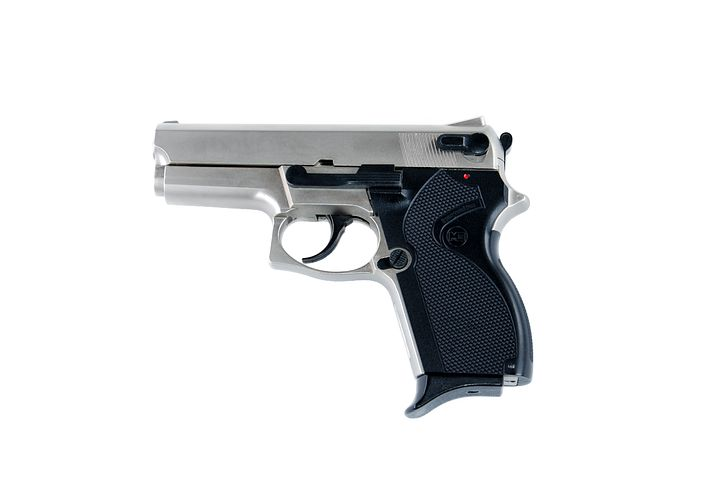gun: (146, 109, 540, 424)
